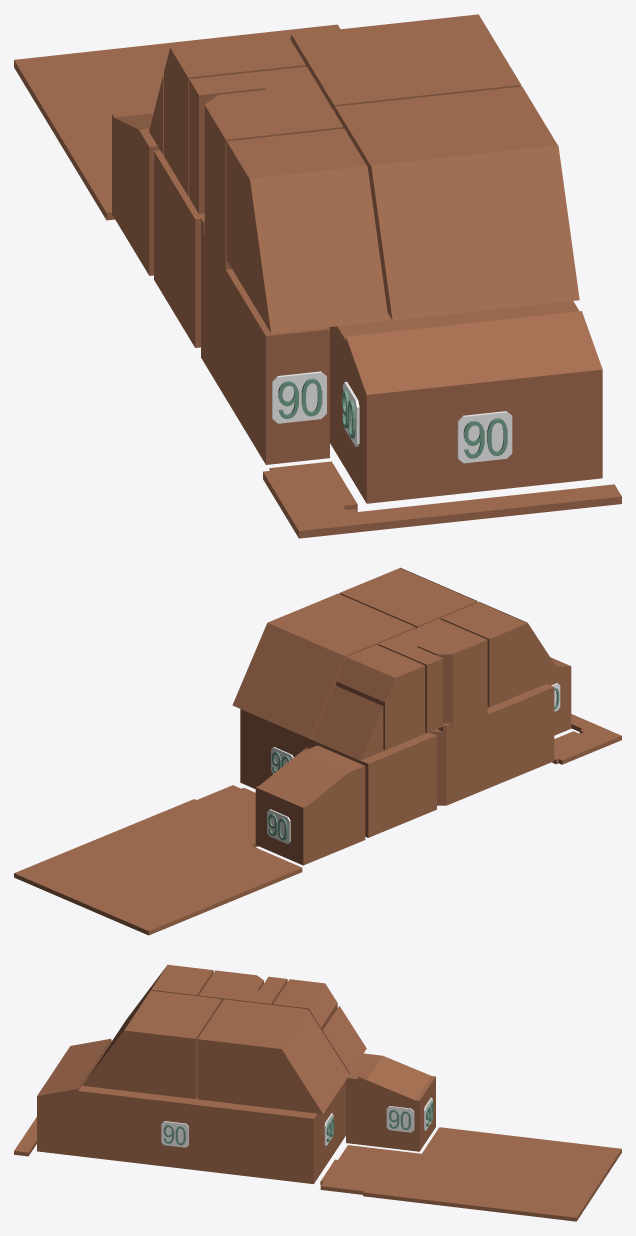
3 views of the same model, one above another, from view 1: azimuth 30°, elevation 25°; view 2: azimuth 150°, elevation 25°; view 3: azimuth 270°, elevation 25° (orthographic). The views are drawn at different scales.
Visible parts, largest first — view 1: g_1, g_8, g_9, g_7, g_15, g_4, g_10, g_6, g_0, g_5, g_14, g_13 (+4 smaller); view 2: g_15, g_7, g_5, g_0, g_9, g_6, g_4, g_2, g_8, g_11, g_12, g_10 (+2 smaller); view 3: g_15, g_1, g_7, g_8, g_0, g_5, g_6, g_9, g_12, g_10, g_11, g_18 (+2 smaller).
Boxes of the visible parts, box(x1,y1,x2,y2) form: g_1: box(329, 301, 602, 503); g_8: box(335, 86, 579, 320); g_9: box(226, 128, 388, 333); g_7: box(290, 14, 521, 112); g_15: box(14, 24, 340, 220); g_4: box(227, 271, 329, 464); g_10: box(189, 66, 343, 213); g_6: box(164, 35, 305, 196); g_0: box(154, 150, 204, 347); g_5: box(112, 109, 159, 275); g_14: box(357, 484, 621, 531); g_13: box(263, 461, 364, 538); g_15: box(14, 785, 302, 935); g_7: box(232, 593, 415, 738); g_5: box(255, 745, 365, 865); g_0: box(240, 709, 436, 837); g_9: box(440, 602, 562, 707); g_6: box(336, 644, 425, 750); g_4: box(487, 684, 554, 787); g_2: box(430, 709, 489, 805); g_8: box(339, 567, 478, 627); g_11: box(417, 631, 487, 722); g_12: box(311, 685, 383, 760); g_10: box(378, 619, 467, 732); g_15: box(320, 1127, 621, 1221); g_1: box(37, 1038, 234, 1174); g_7: box(197, 999, 349, 1114); g_8: box(82, 990, 221, 1098); g_0: box(231, 1080, 345, 1184); g_5: box(346, 1053, 435, 1151); g_6: box(273, 979, 337, 1031); g_9: box(110, 964, 213, 1043); g_12: box(322, 1006, 366, 1073); g_10: box(198, 976, 287, 1004); g_11: box(209, 970, 263, 990); g_18: box(386, 1106, 414, 1132).
Size of the model in its own units: 11.47 by 5.36 by 21.72.
